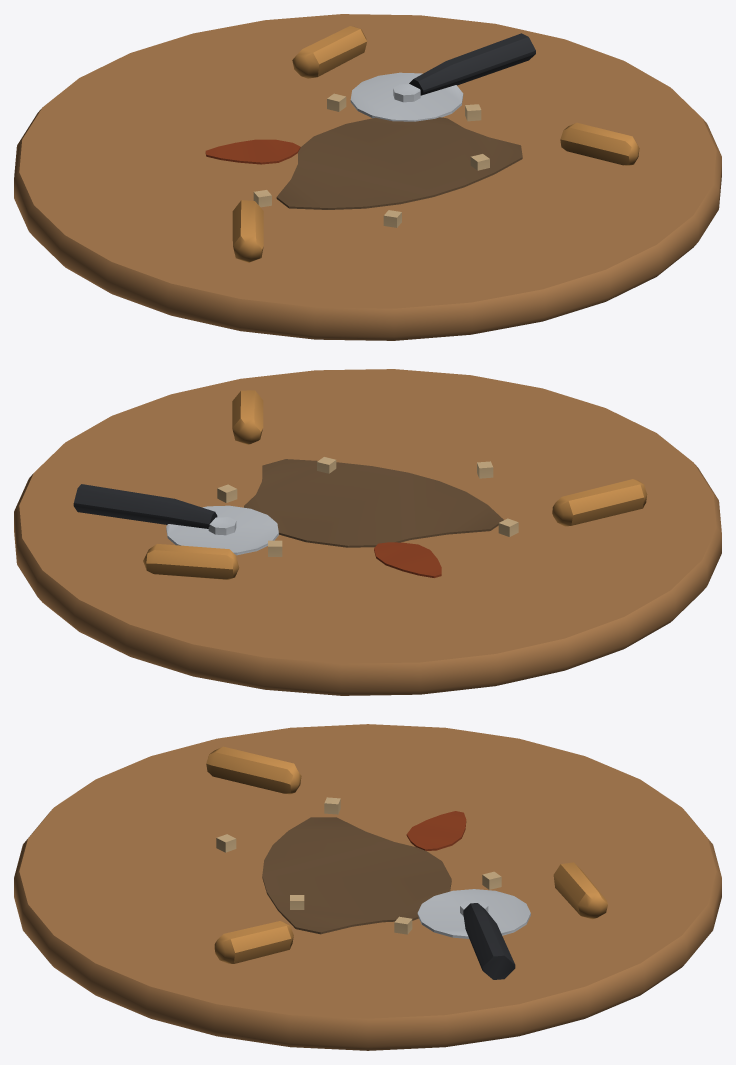
File: pizzaBoardDirty.glb
3 renders of one model, top to bottom at view 1: azimuth 30°, elevation 25°; view 2: azimuth 150°, elevation 25°; view 3: azimuth 270°, elevation 25°, orthographic.
Parts seen in each view (by area): view 1: pizzaBoardDirty; view 2: pizzaBoardDirty; view 3: pizzaBoardDirty.
Part boxes in pixels (box(x1,y1,x2,y2)): pizzaBoardDirty: box(14, 14, 721, 340); pizzaBoardDirty: box(14, 369, 721, 695); pizzaBoardDirty: box(14, 724, 721, 1050).
Size of the model in its own units: 0.4 by 0.0376 by 0.4.
